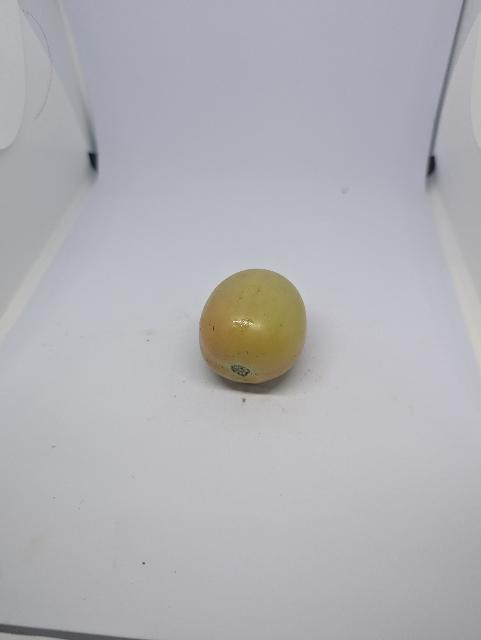breaker: (200, 269, 307, 384)
